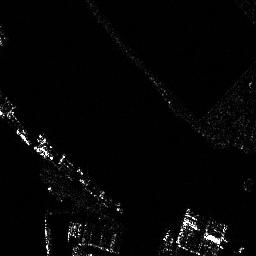ship: (182, 206, 227, 244), (69, 219, 118, 248), (81, 174, 126, 203), (59, 152, 84, 175), (37, 133, 59, 158), (41, 218, 53, 256)
